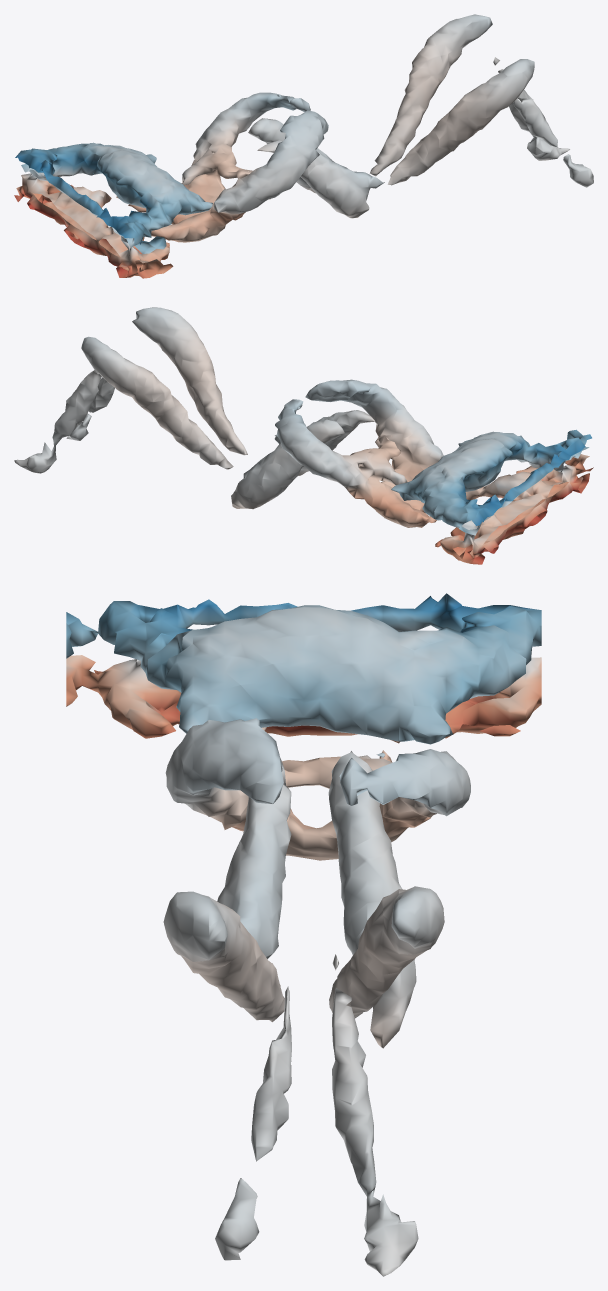
3 views of the same model, one above another, from view 1: azimuth 30°, elevation 25°; view 2: azimuth 150°, elevation 25°; view 3: azimuth 270°, elevation 25° (orthographic). The views are drawn at different scales.
Size of the model in its own units: 6.13 by 1.77 by 2.5.
